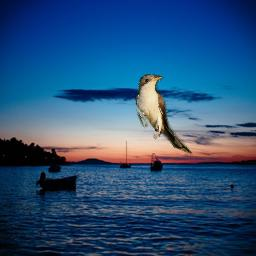Cuckoo: (135, 74, 193, 157)
